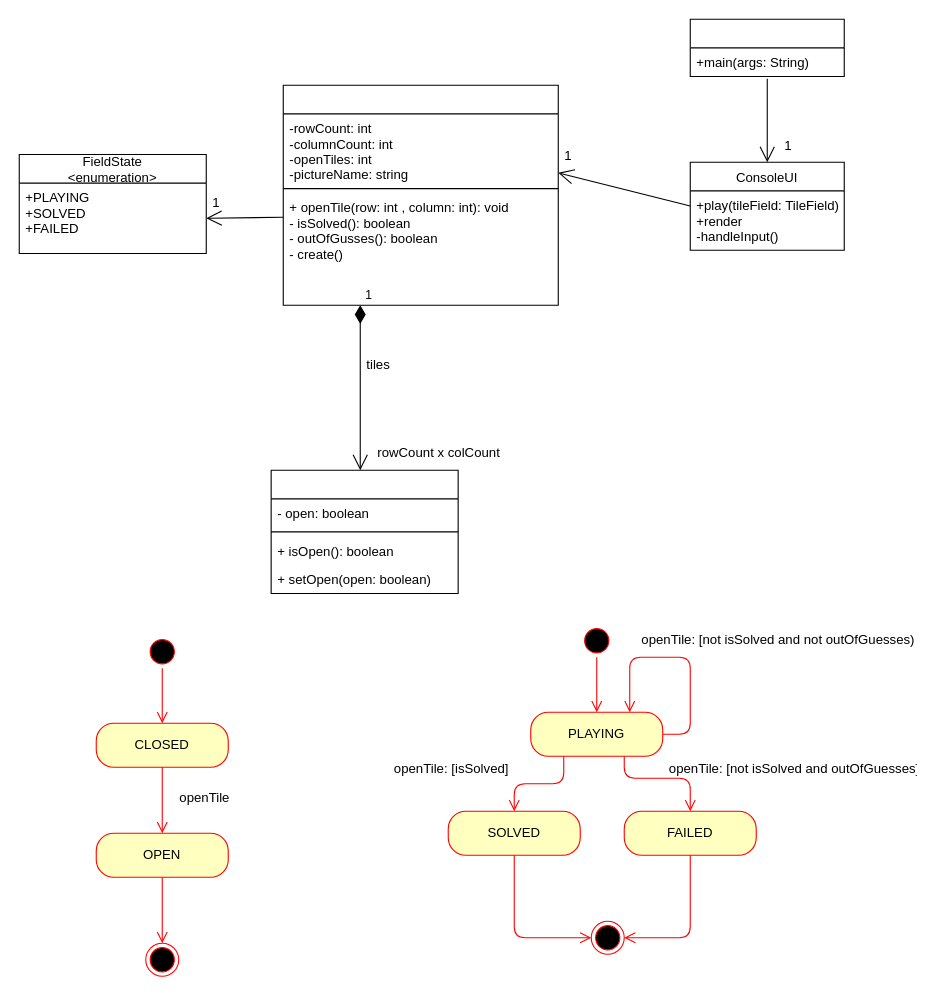
The diagram is 941 pixels wide and 996 high, and some of its shapes have lost their labels. The shapes that lost their labels are listed below. From the top down, each one's box as (x1, y1, x2, y2) in pixels, then its label:
(689, 18, 844, 76): GuessThePicture
(282, 84, 558, 305): TileField
(270, 469, 458, 593): Tile
